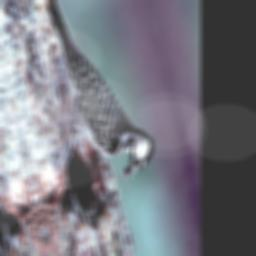Woodpecker: (36, 0, 162, 202)
